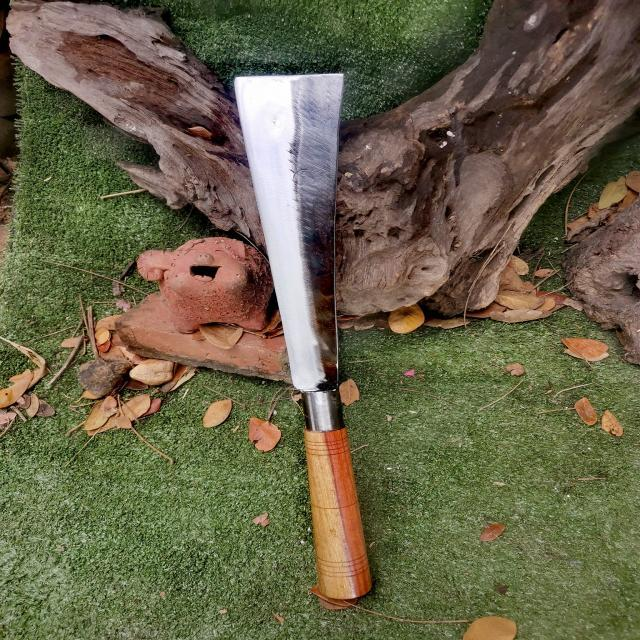eto: (217, 59, 385, 609)
